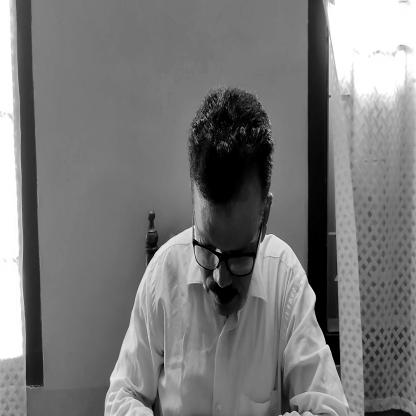Normal: (186, 102, 268, 319)
